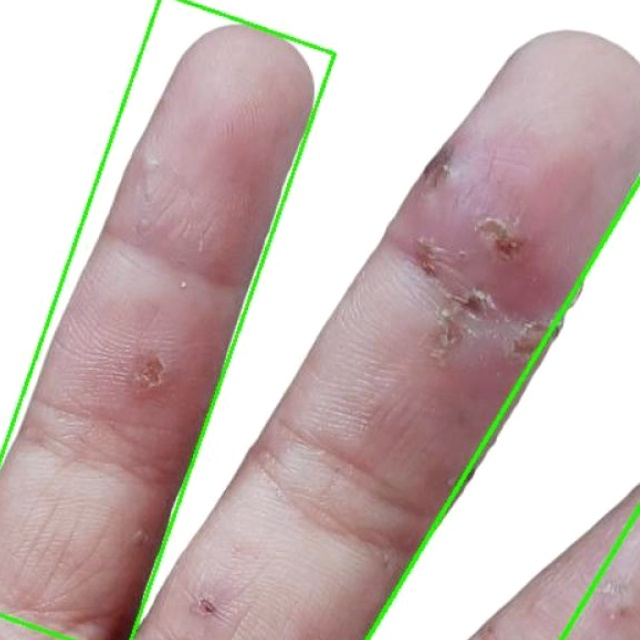Scabies: (0, 0, 639, 639), (0, 0, 334, 639), (361, 131, 639, 639)
